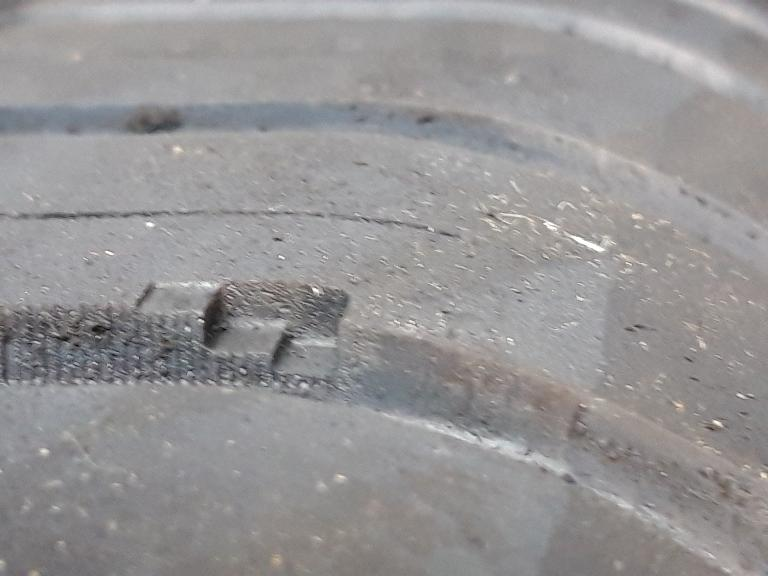temoin:50: (127, 273, 358, 409)
